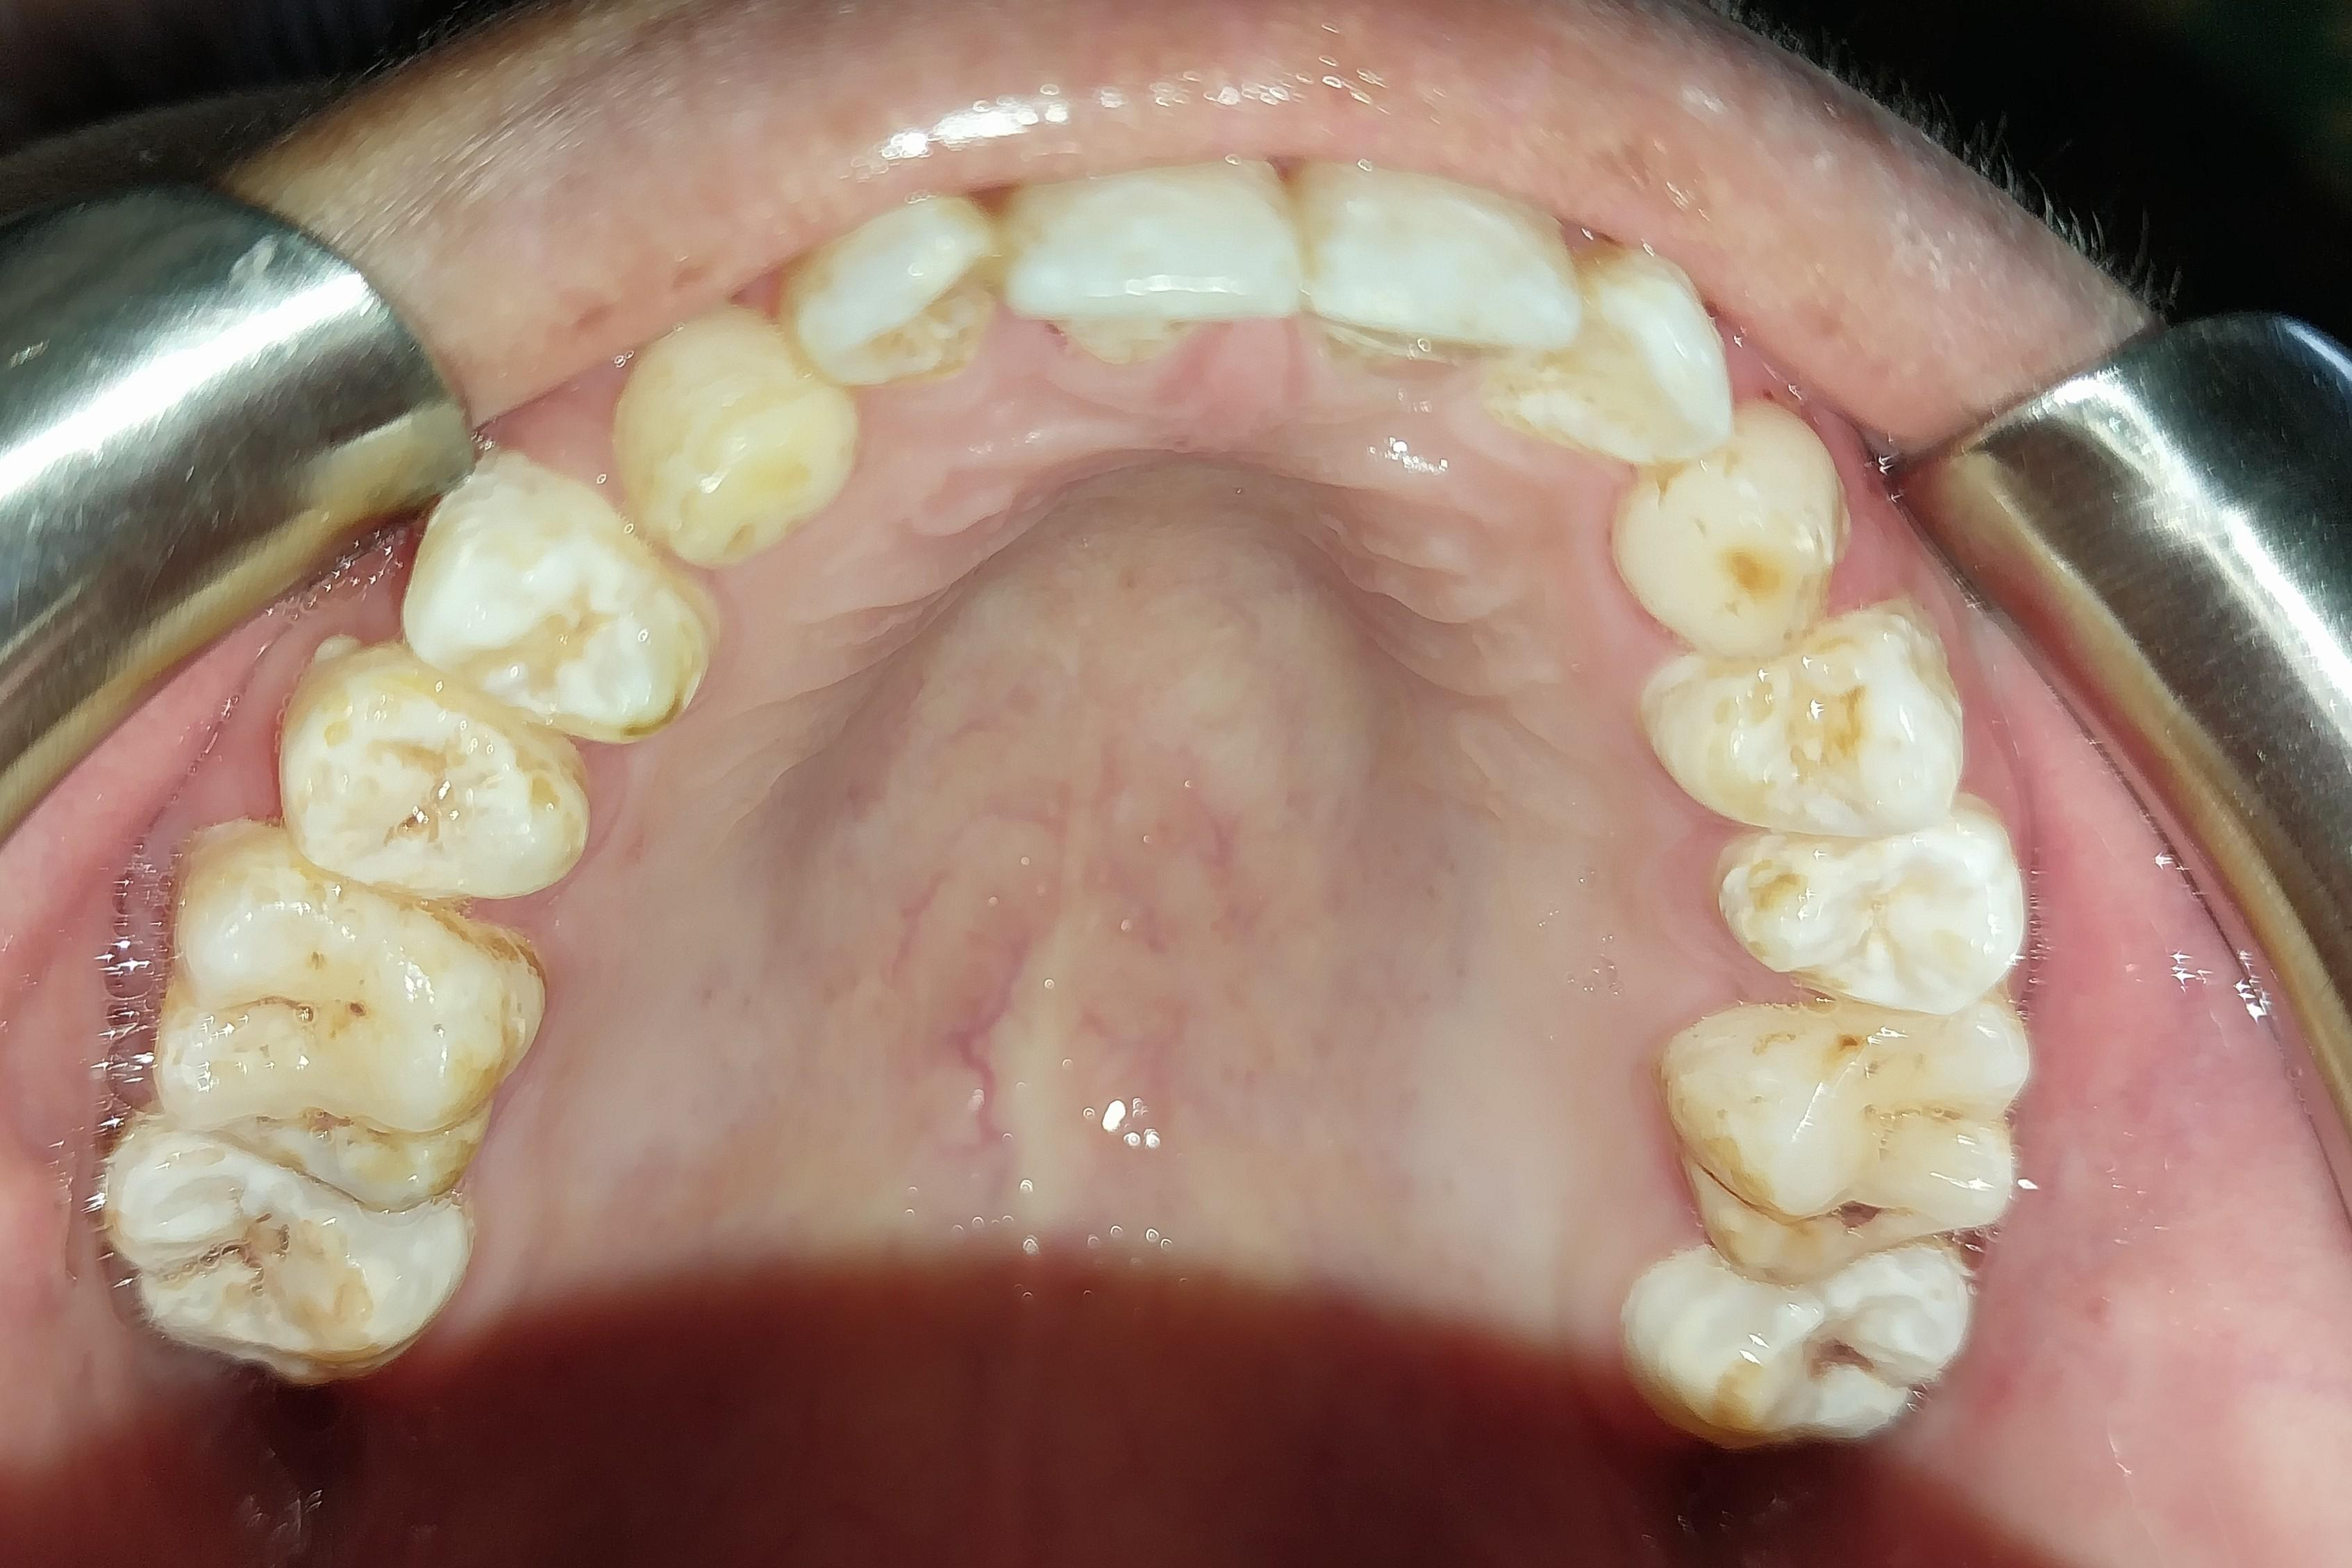D: (150, 837, 519, 1208), (1667, 981, 2025, 1272), (94, 1147, 473, 1387), (1635, 1243, 1974, 1451)
